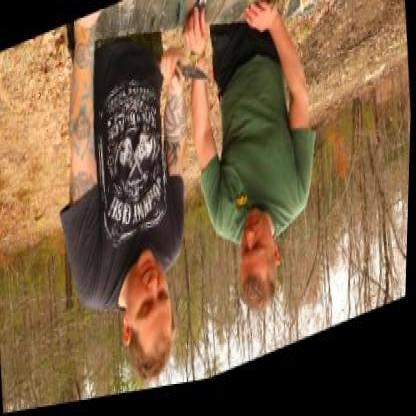knife: (154, 37, 214, 114)
